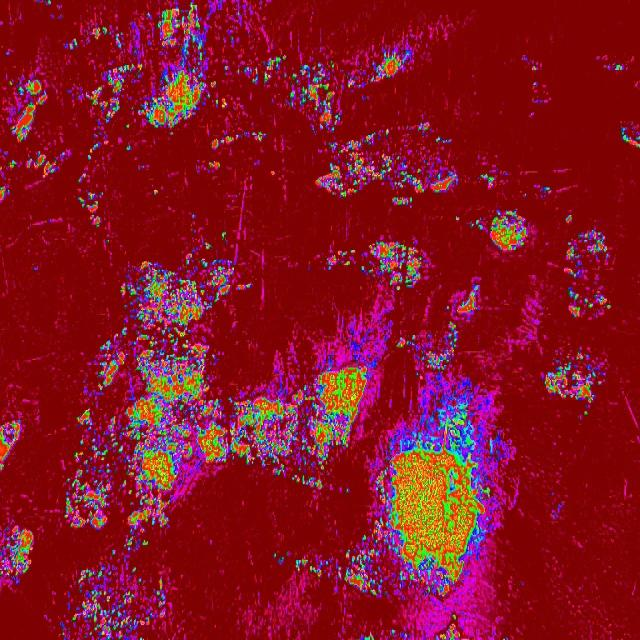fire: (64, 252, 225, 528), (374, 383, 506, 602), (264, 354, 376, 477), (137, 2, 210, 128), (60, 564, 167, 640), (314, 150, 458, 205), (274, 52, 340, 132), (540, 347, 608, 417), (359, 240, 424, 296), (84, 60, 138, 122), (5, 75, 49, 144), (225, 393, 263, 466), (564, 229, 614, 281), (408, 322, 463, 369), (486, 206, 530, 255), (344, 532, 376, 596), (0, 526, 33, 588), (564, 286, 612, 320), (370, 51, 413, 84), (294, 553, 343, 579), (0, 419, 23, 470), (24, 150, 59, 180), (432, 612, 468, 640), (78, 190, 102, 230), (457, 280, 482, 316), (325, 246, 356, 270), (122, 528, 148, 552), (347, 130, 378, 150), (620, 125, 640, 147), (344, 70, 364, 90), (90, 22, 112, 40), (208, 132, 232, 148), (243, 66, 260, 88), (289, 478, 325, 488), (476, 170, 496, 188), (253, 128, 270, 148), (262, 57, 272, 85), (84, 142, 100, 159), (274, 549, 290, 565), (205, 160, 223, 174), (434, 133, 451, 147), (64, 37, 78, 54), (414, 122, 430, 136), (4, 155, 18, 171), (216, 94, 230, 110), (74, 171, 90, 185), (112, 32, 125, 48), (226, 259, 232, 292), (610, 60, 624, 74), (469, 219, 484, 231), (0, 182, 9, 202), (397, 334, 408, 350), (236, 282, 252, 292), (563, 211, 574, 225), (201, 239, 214, 250), (542, 184, 552, 196), (330, 140, 342, 150), (136, 162, 148, 172), (413, 370, 423, 381), (530, 62, 540, 73), (362, 632, 374, 640), (402, 630, 411, 640), (521, 190, 530, 200), (222, 63, 232, 72), (234, 132, 243, 142), (384, 128, 392, 138), (210, 78, 218, 88), (152, 188, 160, 198), (124, 122, 132, 132), (390, 627, 397, 638), (105, 238, 114, 246), (235, 66, 243, 75), (502, 634, 513, 640), (344, 487, 352, 495), (455, 213, 461, 223), (126, 144, 132, 154), (168, 130, 174, 140), (532, 81, 539, 89), (222, 230, 226, 242), (445, 304, 451, 312), (236, 10, 242, 18), (110, 549, 116, 556), (43, 0, 51, 5), (190, 212, 195, 220), (230, 34, 234, 42)
